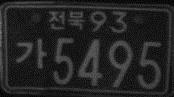3: (108, 10, 127, 34)
4: (77, 36, 103, 87)
5: (137, 40, 163, 90), (52, 36, 76, 85)
9: (108, 38, 134, 89), (89, 10, 107, 33)
가: (15, 37, 47, 70)
전북_O: (48, 10, 84, 31)
